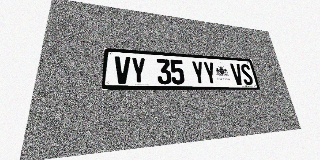3: (156, 59, 172, 84)
5: (170, 59, 185, 84)
S: (240, 64, 254, 85)
V: (114, 56, 130, 84), (230, 63, 244, 85)
Y: (131, 57, 146, 84), (202, 61, 218, 85), (191, 61, 206, 85)
